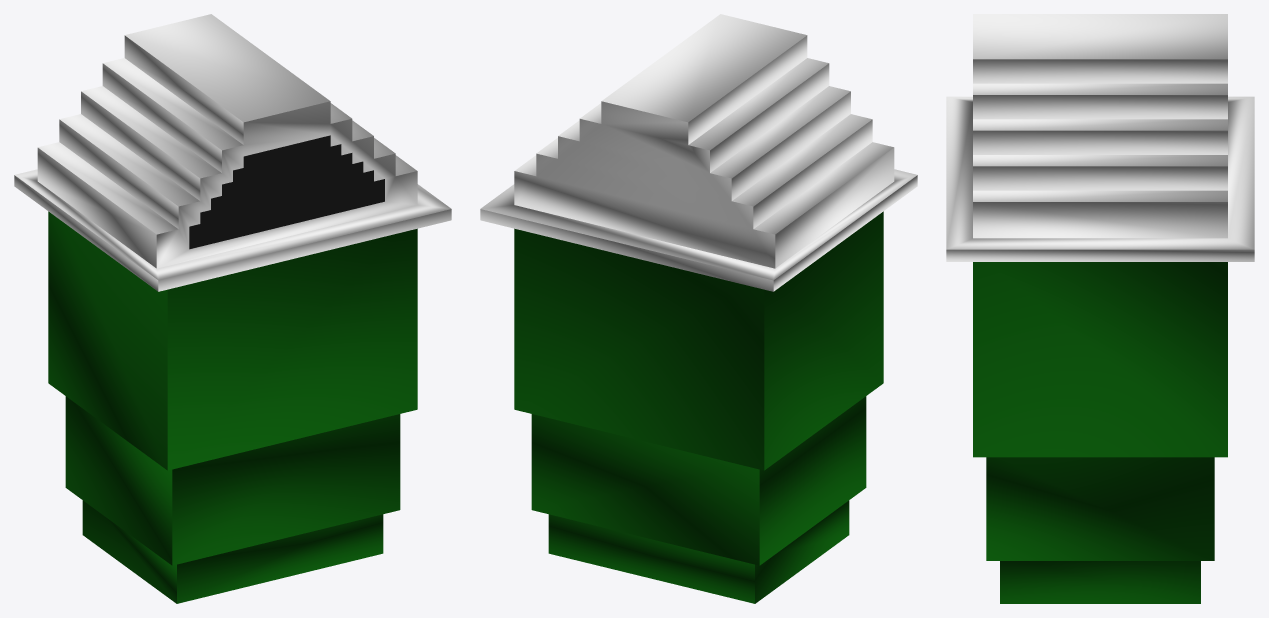
The model's file is latadelixo.fbx.
3 views of the same model, side by side, from view 1: azimuth 30°, elevation 25°; view 2: azimuth 150°, elevation 25°; view 3: azimuth 270°, elevation 25° (orthographic). The views are drawn at different scales.
Visible parts, largest first — view 1: latadelixo3.001; view 2: latadelixo3.001; view 3: latadelixo3.001.
Part boxes in pixels (bbox=[...]): latadelixo3.001: bbox=[14, 14, 451, 603]; latadelixo3.001: bbox=[480, 14, 917, 603]; latadelixo3.001: bbox=[946, 14, 1254, 603].
Bounding box in the file's own units: 270 × 420 × 230.
